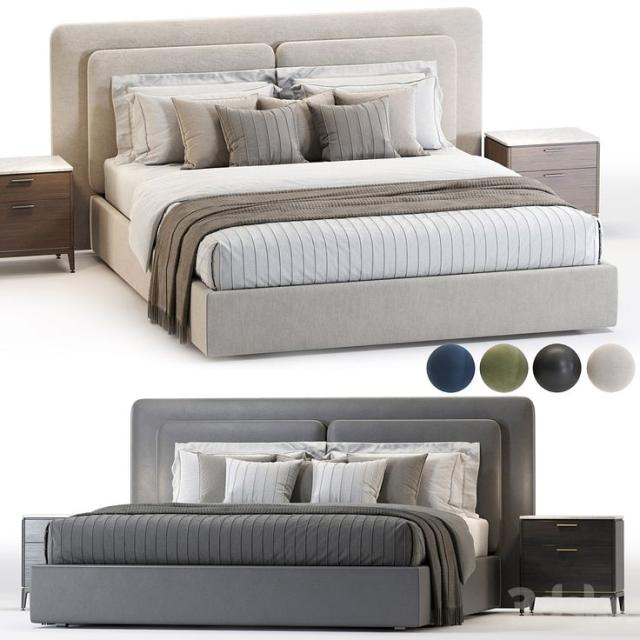obstacle: (50, 6, 618, 358), (19, 396, 536, 630), (512, 514, 624, 616), (483, 126, 600, 218), (0, 154, 75, 272)
